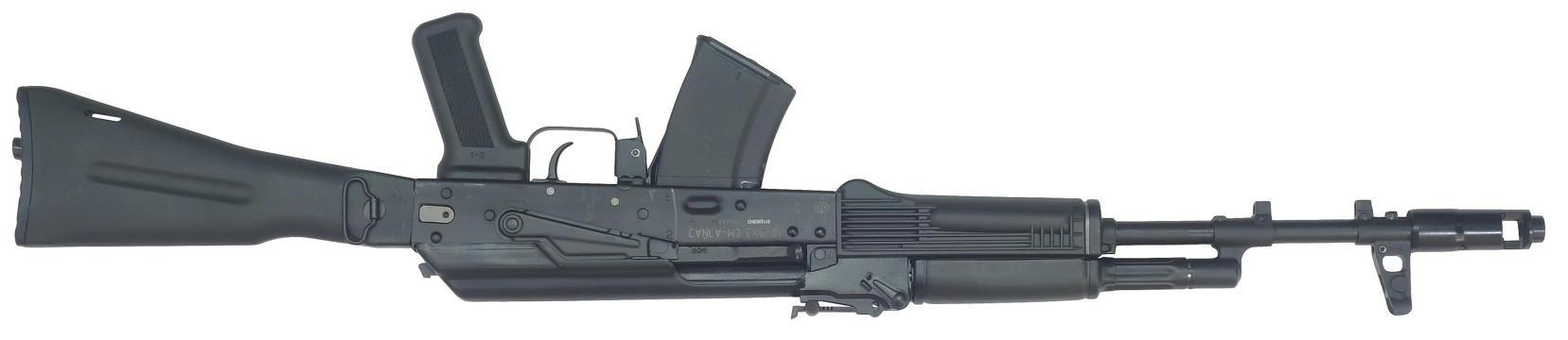larga: (8, 12, 1551, 321)
